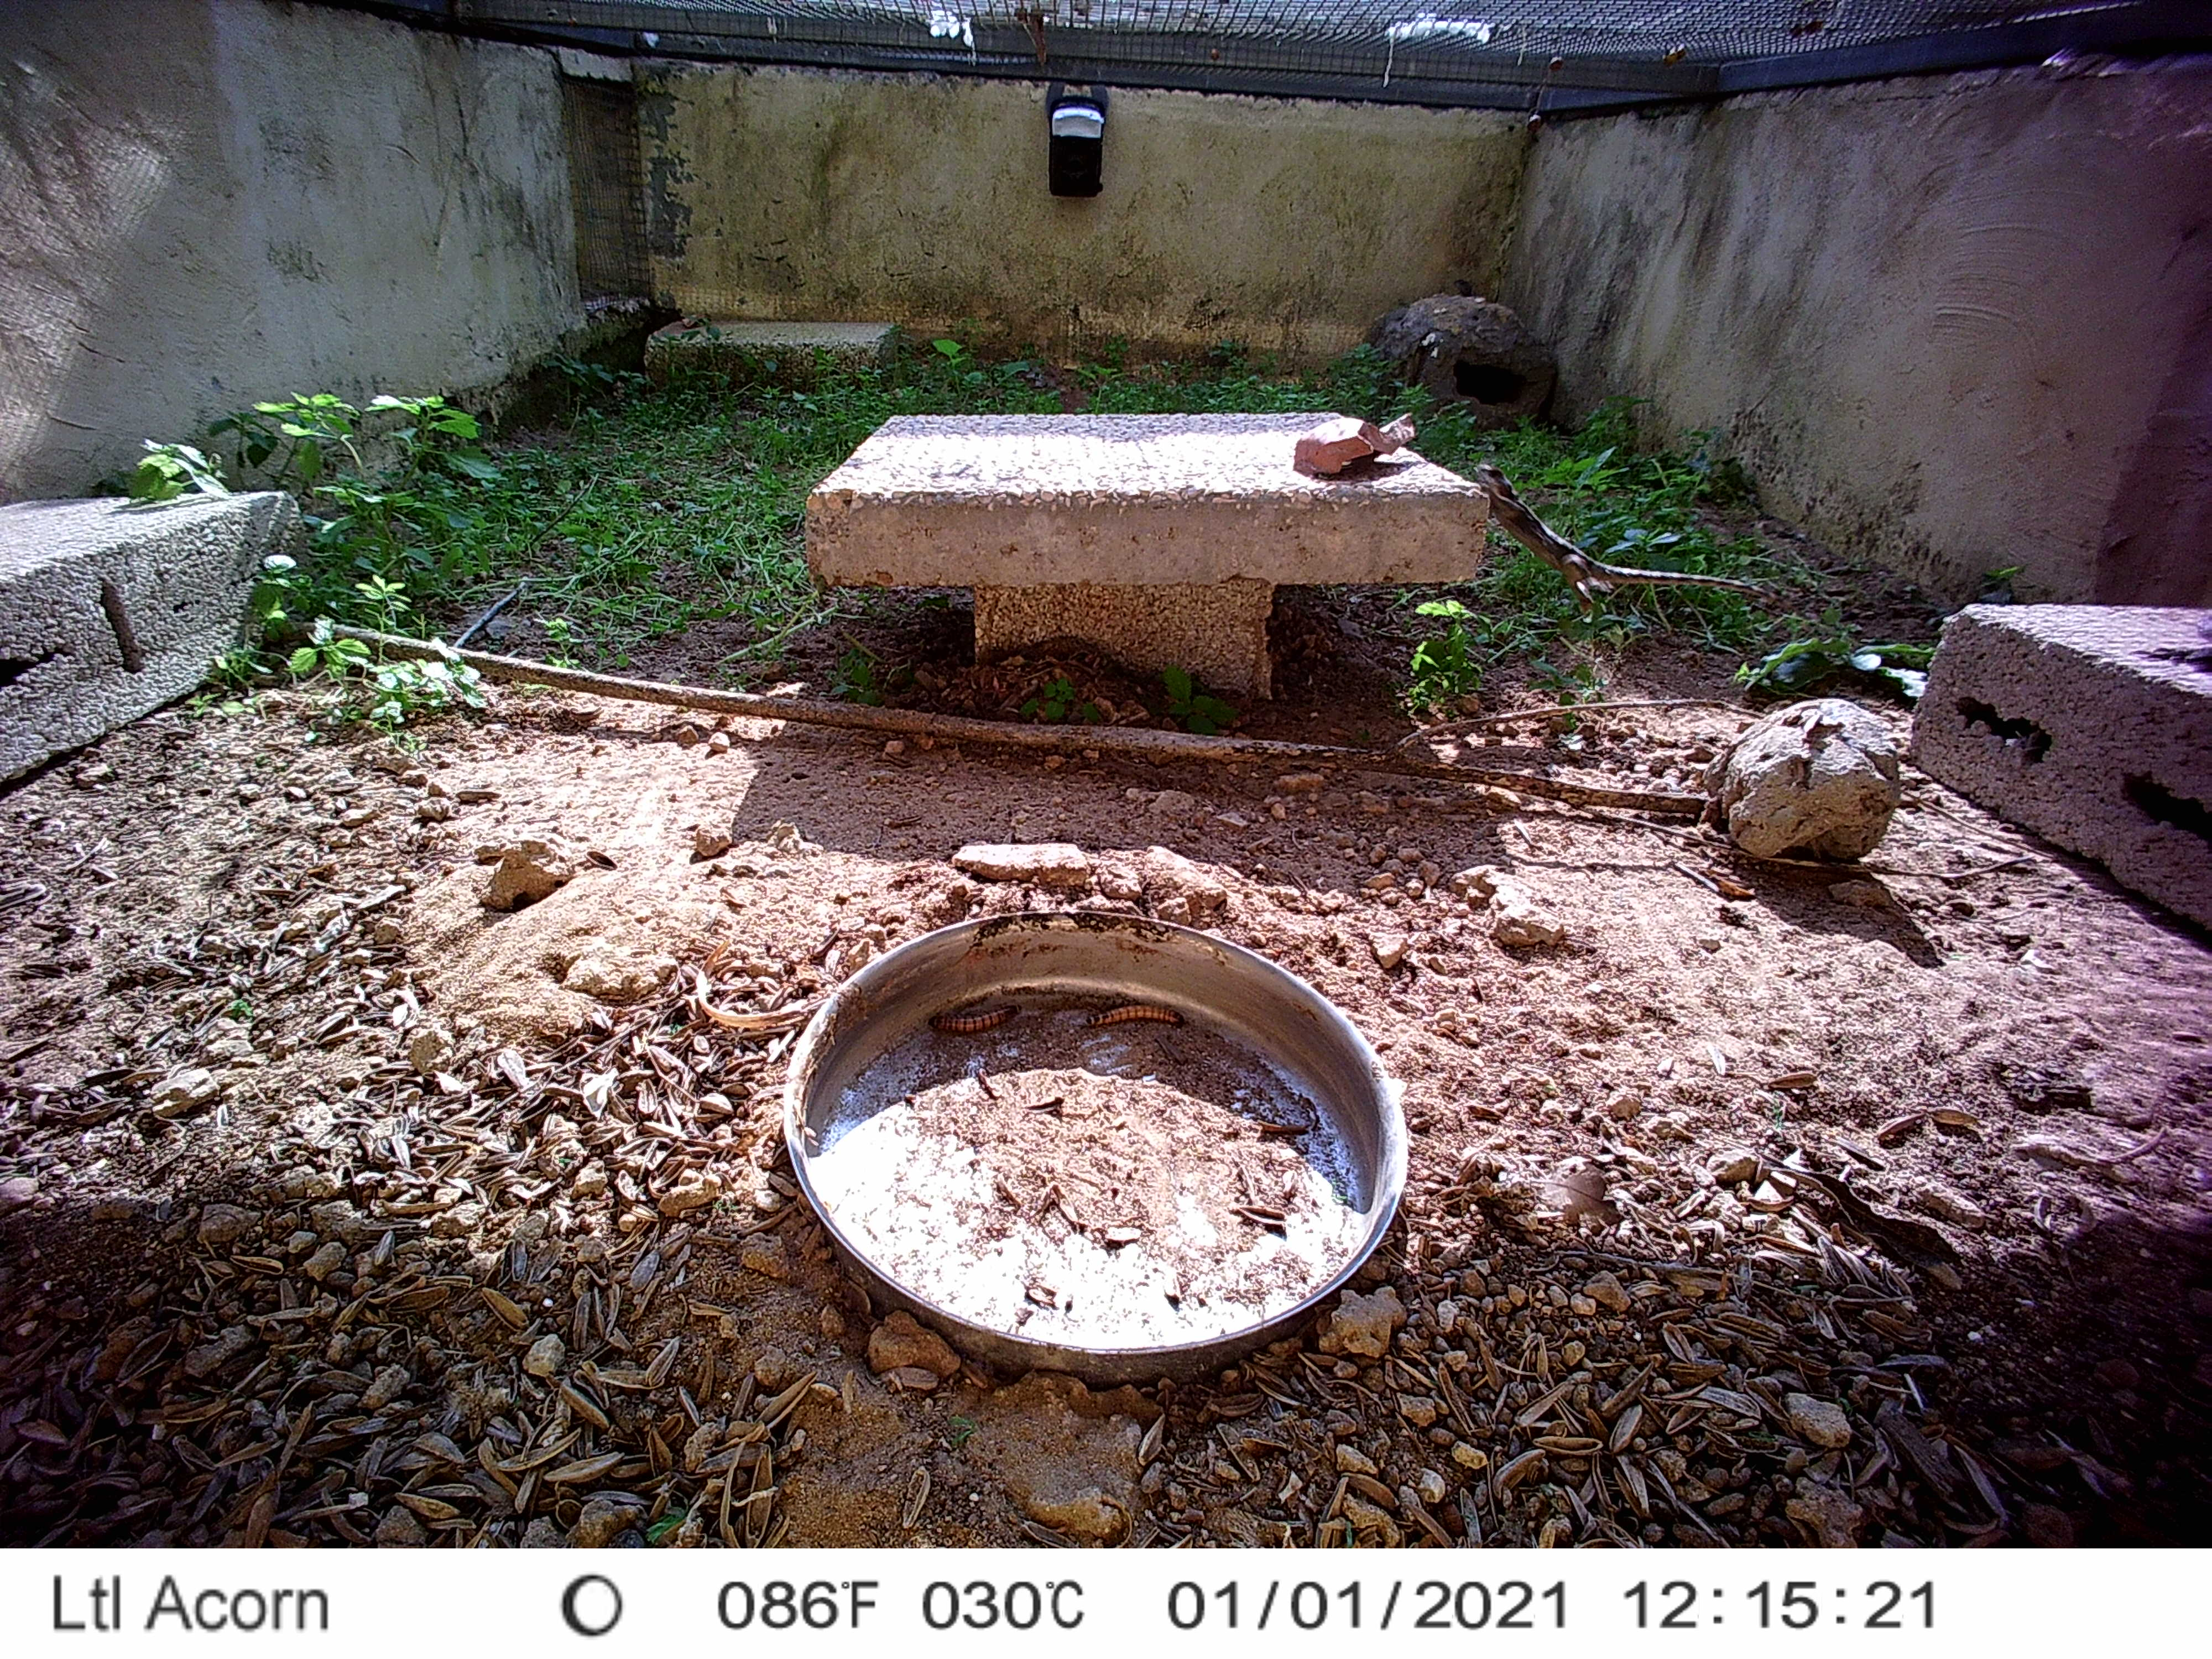lizard: (1468, 460, 1780, 613)
